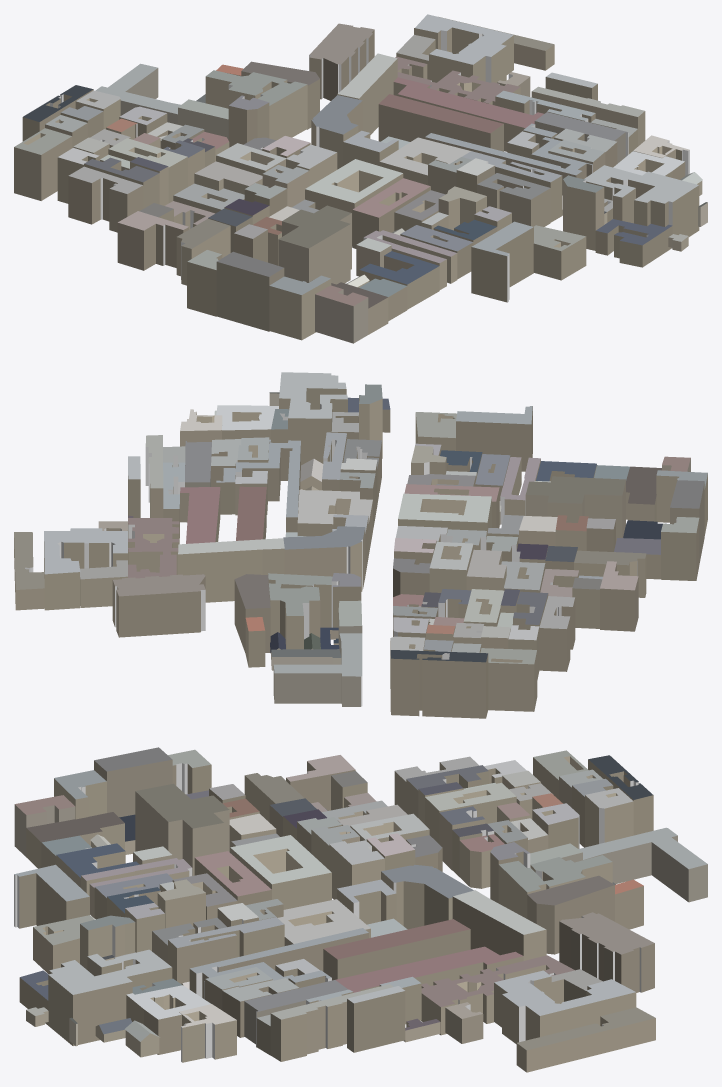
3 views of the same model, one above another, from view 1: azimuth 30°, elevation 25°; view 2: azimuth 150°, elevation 25°; view 3: azimuth 270°, elevation 25° (orthographic). The views are drawn at different scales.
Parts seen in each view (by area): view 1: tuile; view 2: tuile; view 3: tuile.
Part boxes in pixels (left/top/right/bottom): tuile: left=14, top=14, right=707, bottom=343; tuile: left=14, top=372, right=707, bottom=718; tuile: left=14, top=747, right=707, bottom=1072.
Bounding box in the file's own units: 274 × 35.04 × 280.
